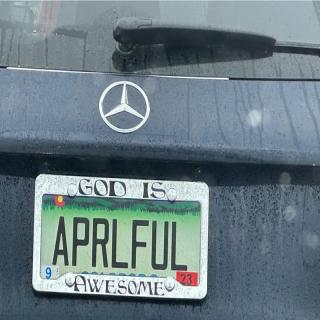license: (31, 175, 210, 301)
